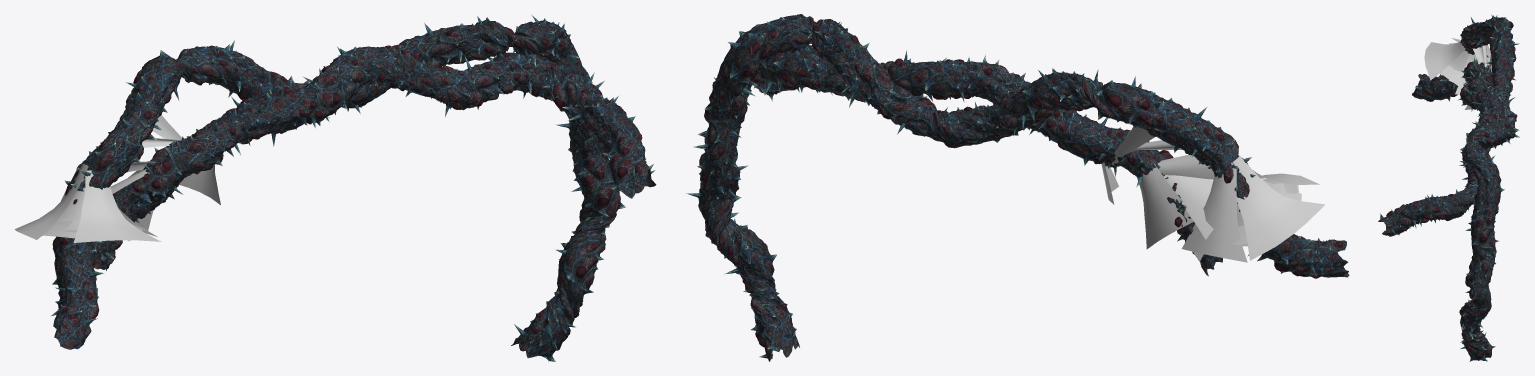
The model's file is backup.fbx.
3 views of the same model, side by side, from view 1: azimuth 30°, elevation 25°; view 2: azimuth 150°, elevation 25°; view 3: azimuth 270°, elevation 25° (orthographic). The views are drawn at different scales.
Parts seen in each view (by area): view 1: LODGroup_1_MainMesh_3_SubMesh_2, LODGroup_1_MainMesh_2_SubMesh_1, LODGroup_1_MainMesh_3_SubMesh_1, LODGroup_1_MainMesh_2_SubMesh_2, LODGroup_1_MainMesh_1_SubMesh_1; view 2: LODGroup_1_MainMesh_3_SubMesh_1, LODGroup_1_MainMesh_3_SubMesh_2, LODGroup_1_MainMesh_1_SubMesh_1, LODGroup_1_MainMesh_2_SubMesh_1, LODGroup_1_MainMesh_2_SubMesh_2; view 3: LODGroup_1_MainMesh_3_SubMesh_1, LODGroup_1_MainMesh_3_SubMesh_2, LODGroup_1_MainMesh_2_SubMesh_1, LODGroup_1_MainMesh_1_SubMesh_1, LODGroup_1_MainMesh_2_SubMesh_2.
Boxes of the visible parts, <box> form: LODGroup_1_MainMesh_3_SubMesh_2: <box>52,17,616,361</box>; LODGroup_1_MainMesh_2_SubMesh_1: <box>93,45,655,270</box>; LODGroup_1_MainMesh_3_SubMesh_1: <box>51,14,625,357</box>; LODGroup_1_MainMesh_2_SubMesh_2: <box>92,46,656,262</box>; LODGroup_1_MainMesh_1_SubMesh_1: <box>15,111,220,242</box>; LODGroup_1_MainMesh_3_SubMesh_1: <box>685,16,1349,361</box>; LODGroup_1_MainMesh_3_SubMesh_2: <box>697,14,1348,357</box>; LODGroup_1_MainMesh_1_SubMesh_1: <box>1101,126,1325,262</box>; LODGroup_1_MainMesh_2_SubMesh_1: <box>752,45,1215,276</box>; LODGroup_1_MainMesh_2_SubMesh_2: <box>752,46,1222,262</box>; LODGroup_1_MainMesh_3_SubMesh_1: <box>1412,14,1520,361</box>; LODGroup_1_MainMesh_3_SubMesh_2: <box>1415,15,1515,361</box>; LODGroup_1_MainMesh_2_SubMesh_1: <box>1378,57,1505,233</box>; LODGroup_1_MainMesh_1_SubMesh_1: <box>1424,38,1491,109</box>; LODGroup_1_MainMesh_2_SubMesh_2: <box>1382,61,1506,236</box>.
Size of the model in its own units: 2549 by 1515 by 832.
